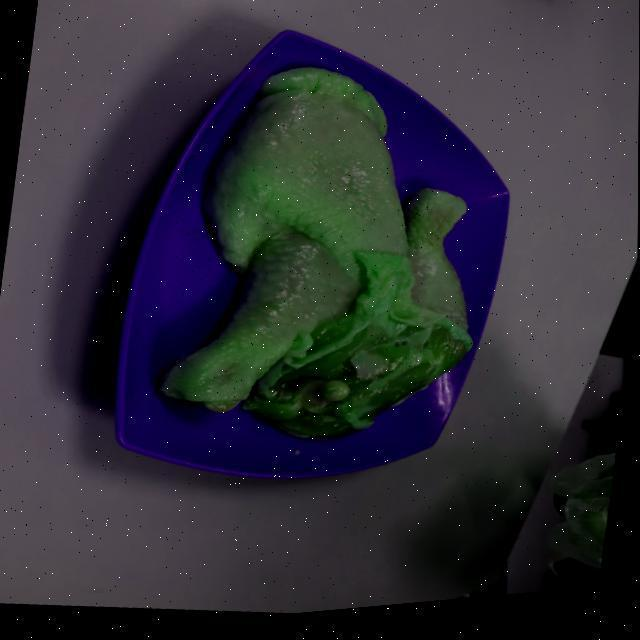quater: (177, 62, 387, 410), (276, 204, 495, 436)
